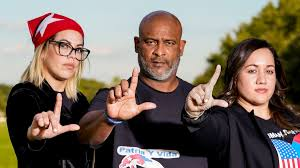person: (133, 9, 187, 82), (229, 40, 278, 106), (44, 21, 91, 82)
